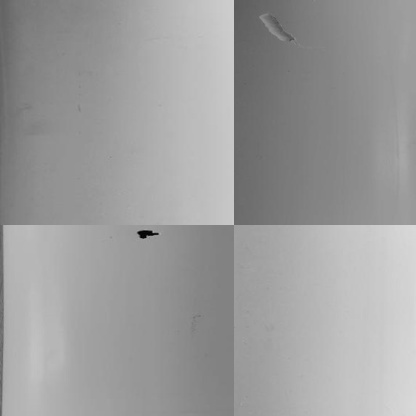kongdong: (134, 227, 158, 242)
sunshang: (255, 10, 295, 43)
